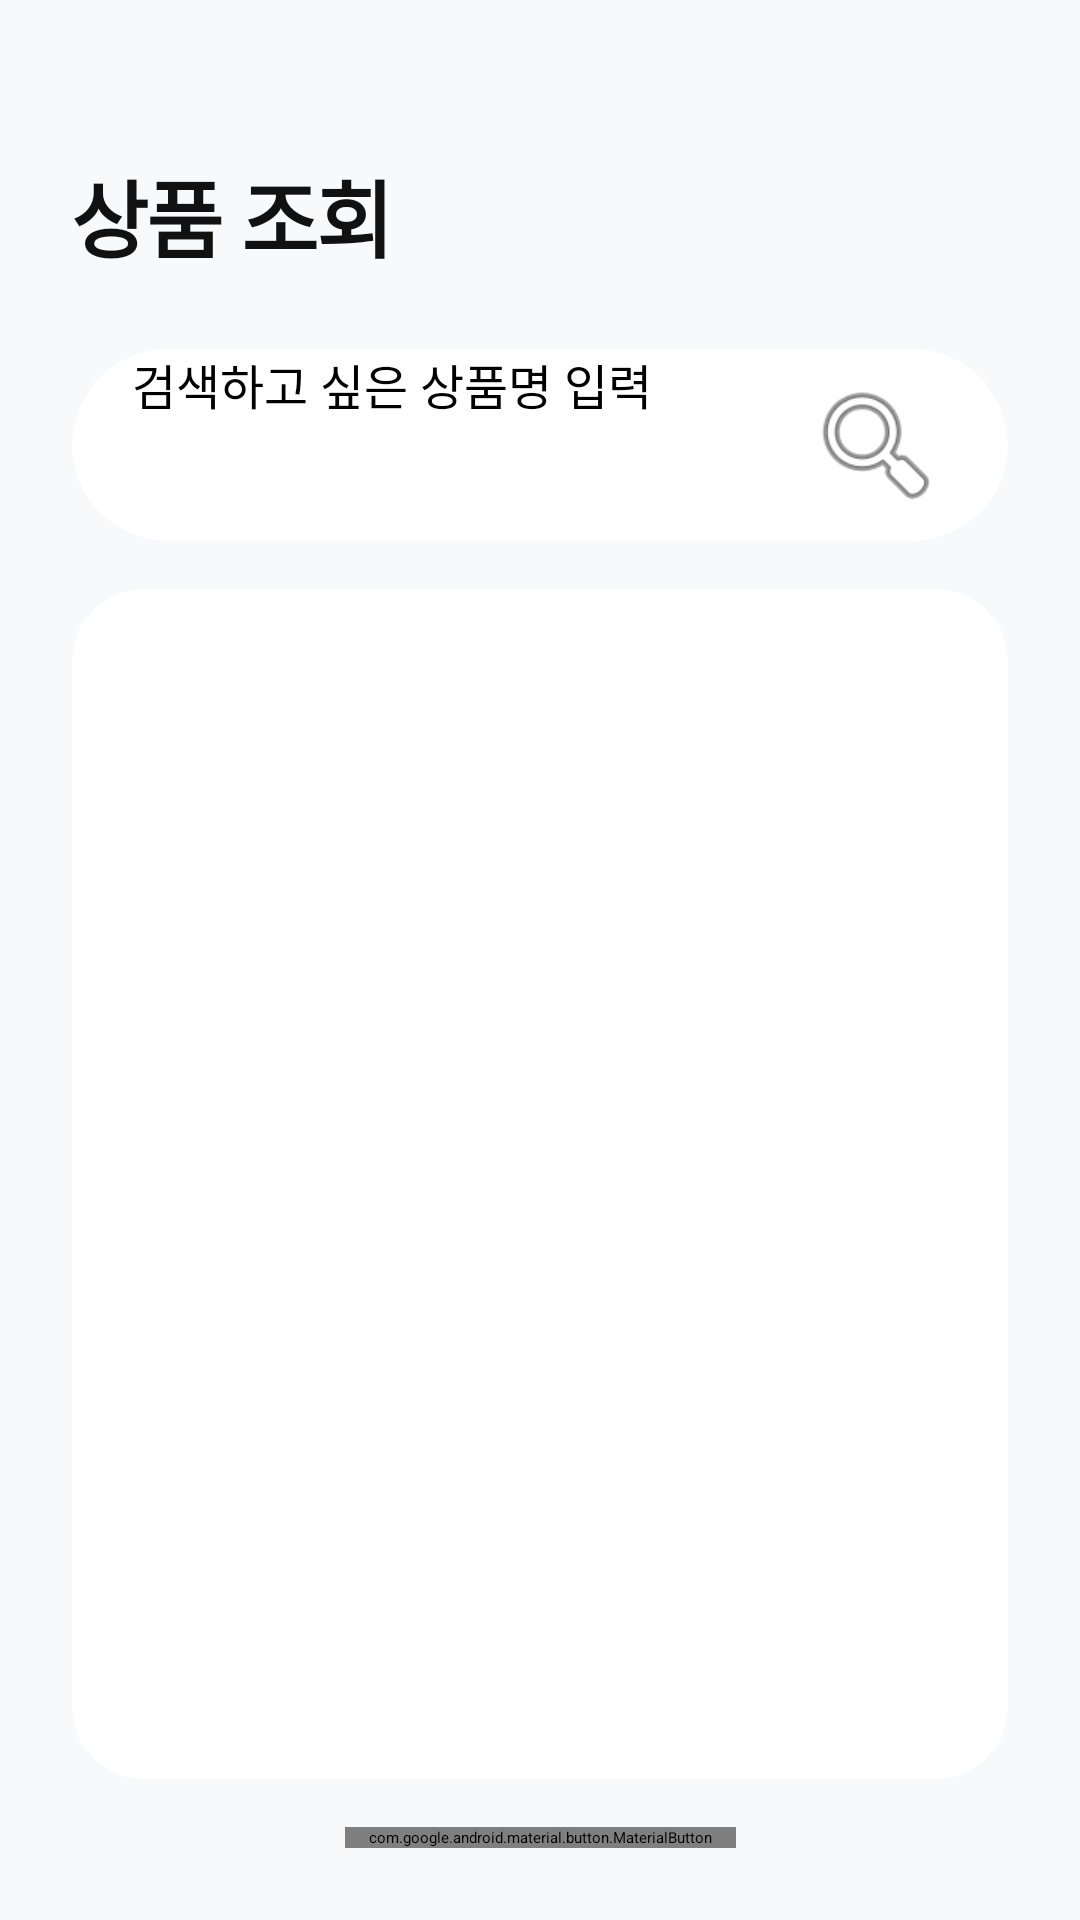

Icon bounding boxes for this 1080px×1920px phone screenshot, format box=[x1, y1, x2, y2]:
search: box=[823, 392, 929, 499]
